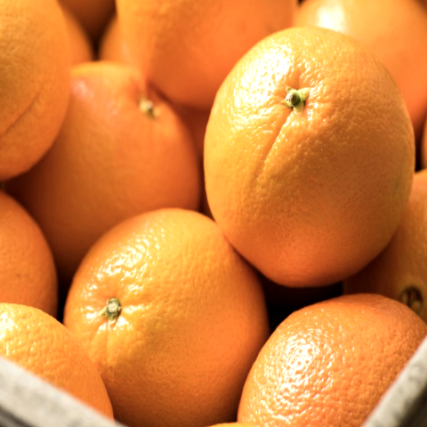orange: (191, 3, 422, 298), (49, 183, 279, 427)
